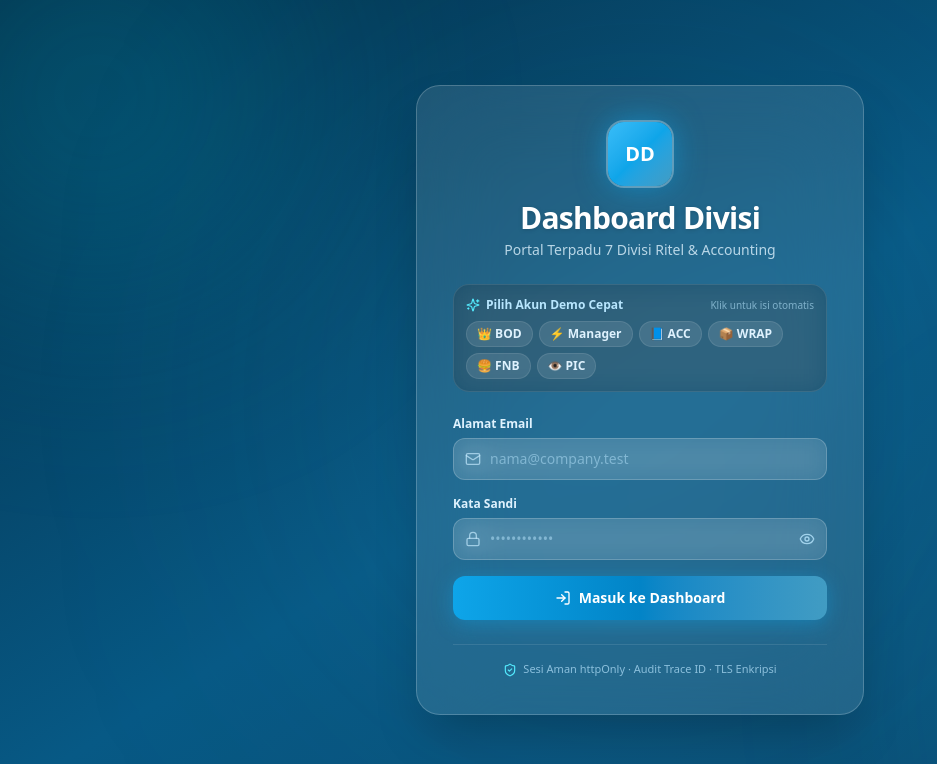
Scenario: LoginPage - Glassmorphic, Quick Role Switcher, & Inline Validation › 2. Quick Role Switcher mengisi field email, password, dan menyinkronkan demo role sekali klik
expect the field labelled "Alamat Email" is empty: met, box [453,438,827,480]
expect the password field labelled "Kata Sandi" is empty: met, box [453,518,827,560]
// Klik tombol chip demo BOD
Click the button with aria-label "Gunakan akun BOD (Direksi)" at (499, 334), box [466,321,533,347]
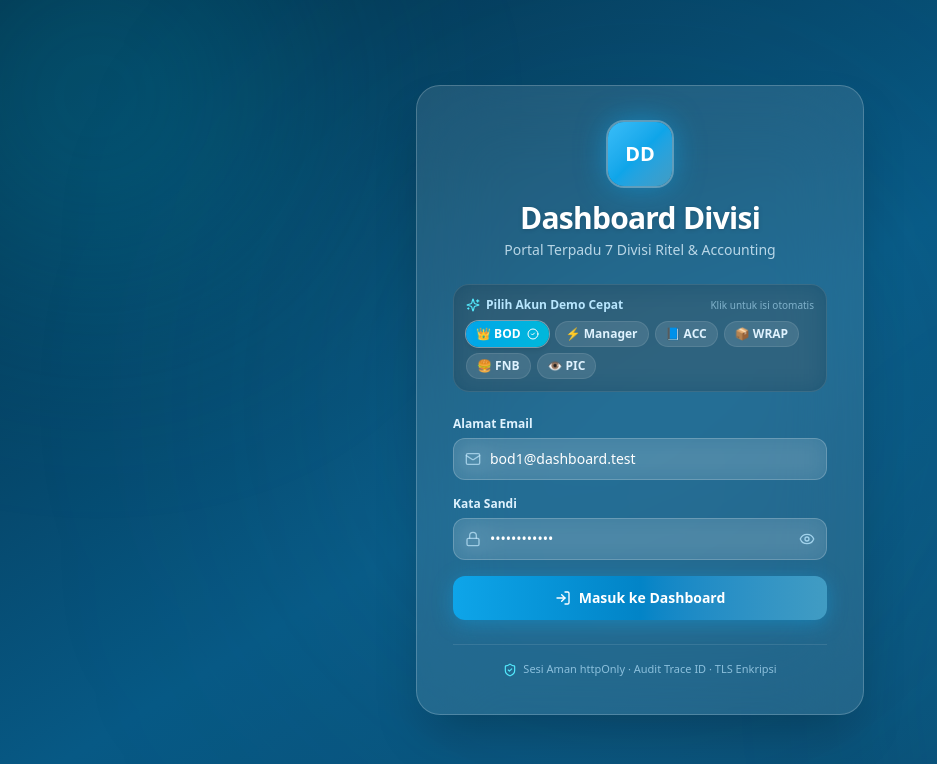
expect the field labelled "Alamat Email" holds "bod1@dashboard.test": met, box [453,438,827,480]
expect the password field labelled "Kata Sandi" holds "Password123!": met, box [453,518,827,560]
// Klik tombol chip demo Manager ACC
Click the button with aria-label "Gunakan akun Manager ACC" at (602, 334), box [555,321,648,347]
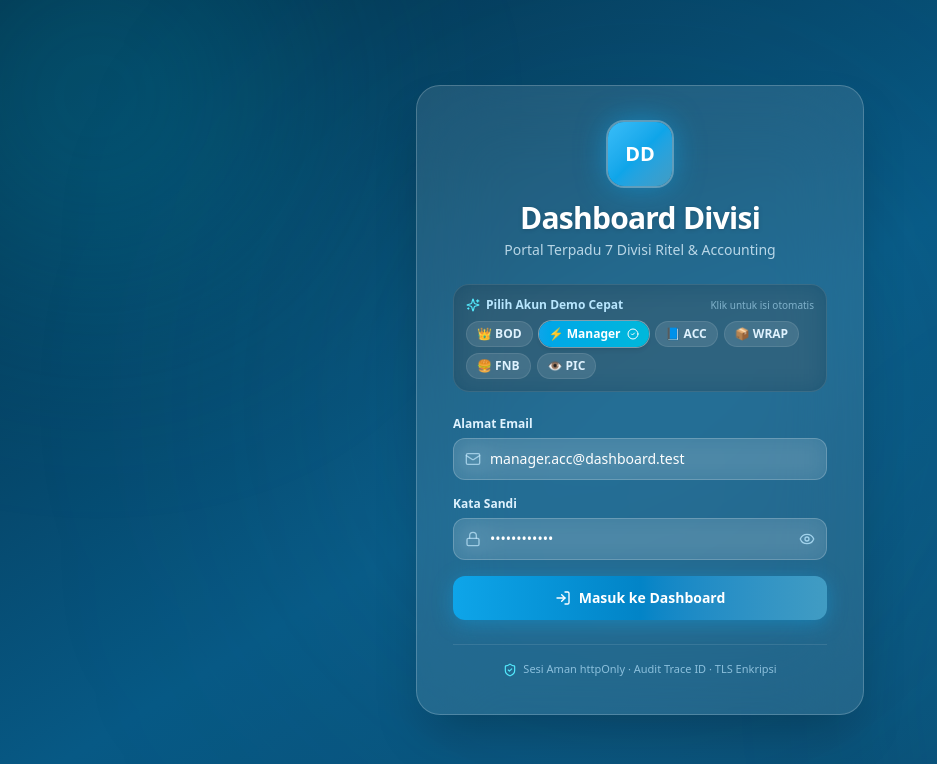
expect the password field labelled "Kata Sandi" holds "Password123!": met, box [453,518,827,560]
expect the field labelled "Alamat Email" holds "manager.acc@dashboard.test": met, box [453,438,827,480]
